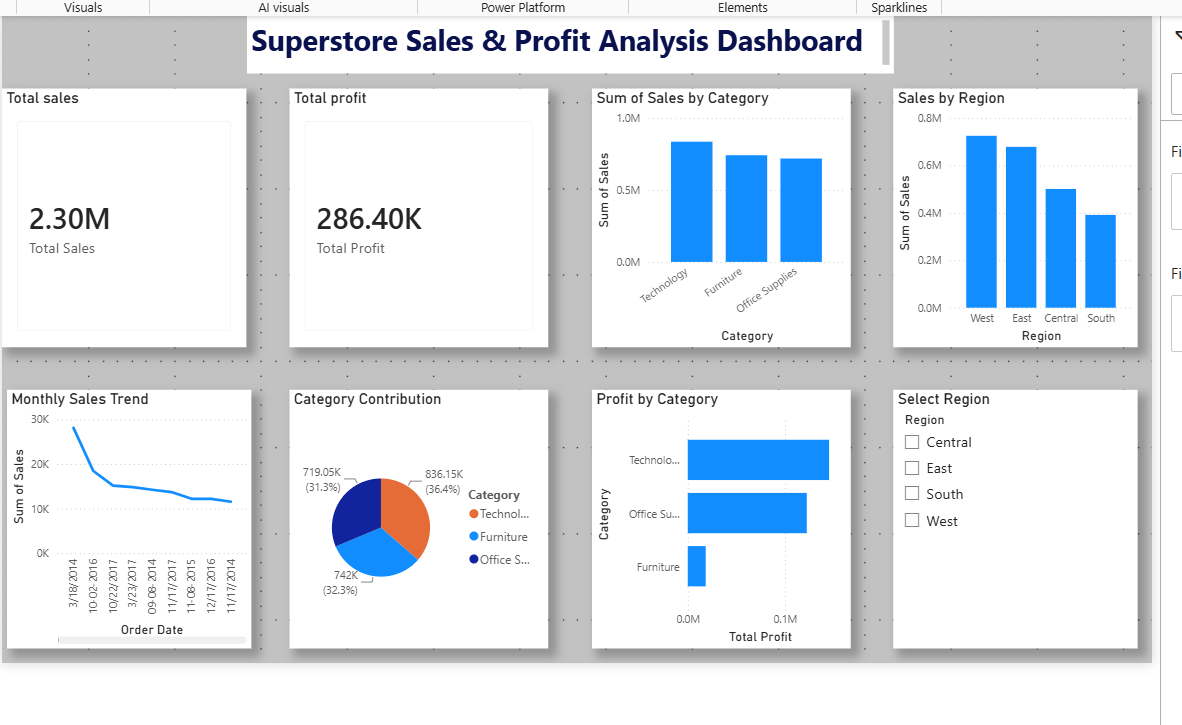

The page's visual inventory and layout, read from the dashboard file:
{"tool":"powerbi","page":{"name":"Page 1","canvas":[1280,720],"ordinal":0},"visuals":[{"type":"cardVisual","title":"Total sales","fields":{"Data":["Sample - Superstore.Total Sales"]},"box":[16,80,272,288],"z":0},{"type":"cardVisual","title":"Total profit","fields":{"Data":["Sample - Superstore.Total Profit"]},"box":[320,80,288,288],"z":1000},{"type":"columnChart","fields":{"Category":["Sample - Superstore.Category"],"Y":["Sum(Sample - Superstore.Sales)"]},"box":[656,80,288,288],"z":2000},{"type":"columnChart","title":" Sales by Region","fields":{"Category":["Sample - Superstore.Region"],"Y":["Sum(Sample - Superstore.Sales)"]},"box":[992,80,272,288],"z":3000},{"type":"lineChart","title":"Monthly Sales Trend","fields":{"Y":["Sum(Sample - Superstore.Sales)"],"Category":["Sample - Superstore.Month Year"]},"box":[16,416,272,288],"z":4000},{"type":"pieChart","title":"Category Contribution","fields":{"Category":["Sample - Superstore.Category"],"Y":["Sum(Sample - Superstore.Sales)"]},"box":[320,416,288,288],"z":5000},{"type":"slicer","title":"Filter by Region","fields":{"Values":["Sample - Superstore.Region"]},"box":[992,416,272,288],"z":6001},{"type":"clusteredBarChart","title":" Profit by Category","fields":{"Category":["Sample - Superstore.Category"],"Y":["Sample - Superstore.Total Profit"]},"box":[656,416,288,288],"z":6002},{"type":"textbox","box":[272,0,720,64],"z":6003}]}

Visuals, with their boxes in screenshot pixels (x1, y1, x2, y2):
"Total sales" cardVisual: {"x1": 5, "y1": 82, "x2": 253, "y2": 344}
"Total profit" cardVisual: {"x1": 282, "y1": 82, "x2": 544, "y2": 344}
columnChart - Sample - Superstore.Category x Sum(Sample - Superstore.Sales): {"x1": 588, "y1": 82, "x2": 850, "y2": 344}
" Sales by Region" columnChart: {"x1": 894, "y1": 82, "x2": 1142, "y2": 344}
"Monthly Sales Trend" lineChart: {"x1": 5, "y1": 388, "x2": 253, "y2": 650}
"Category Contribution" pieChart: {"x1": 282, "y1": 388, "x2": 544, "y2": 650}
"Filter by Region" slicer: {"x1": 894, "y1": 388, "x2": 1142, "y2": 650}
" Profit by Category" clusteredBarChart: {"x1": 588, "y1": 388, "x2": 850, "y2": 650}
textbox: {"x1": 238, "y1": 9, "x2": 894, "y2": 68}
